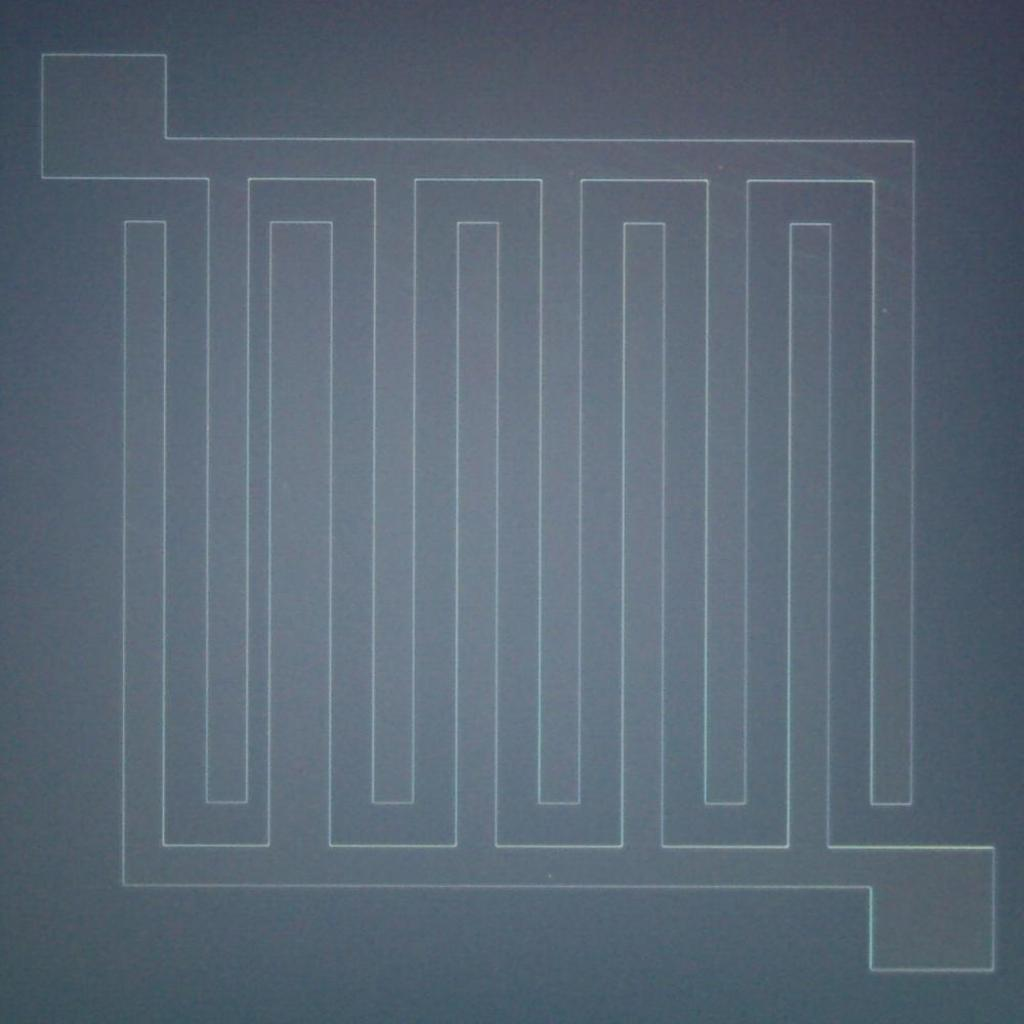dot: (718, 164, 724, 170), (568, 170, 574, 176), (547, 874, 552, 879), (882, 308, 886, 314)
